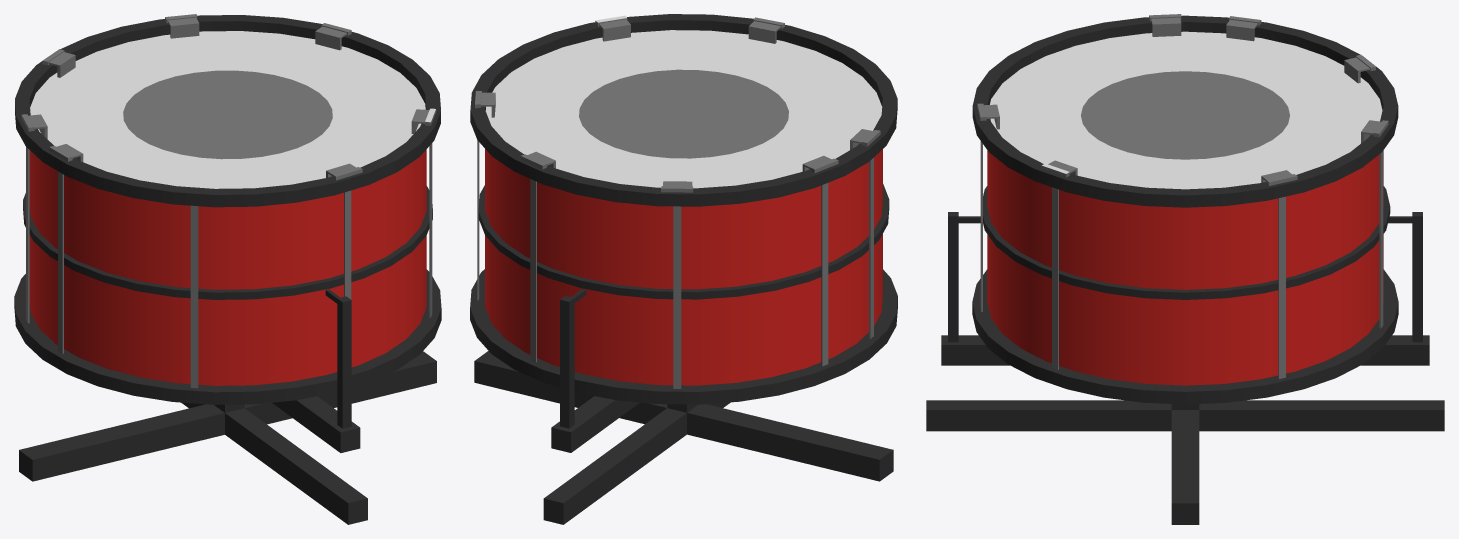
The model's file is Drum.fbx.
The picture shows the model from 3 angles, left to right: view 1: azimuth 30°, elevation 25°; view 2: azimuth 150°, elevation 25°; view 3: azimuth 270°, elevation 25°; orthographic projection.
Parts seen in each view (by area): view 1: Circle, Cube; view 2: Circle, Cube; view 3: Circle, Cube.
Boxes of the visible parts, left/top/right/bottom form: Circle: left=14, top=14, right=441, bottom=404; Cube: left=19, top=289, right=436, bottom=524; Circle: left=470, top=14, right=897, bottom=404; Cube: left=474, top=289, right=893, bottom=524; Circle: left=972, top=14, right=1398, bottom=404; Cube: left=926, top=212, right=1444, bottom=524.
Bounding box in the file's own units: 235 × 181 × 262.
